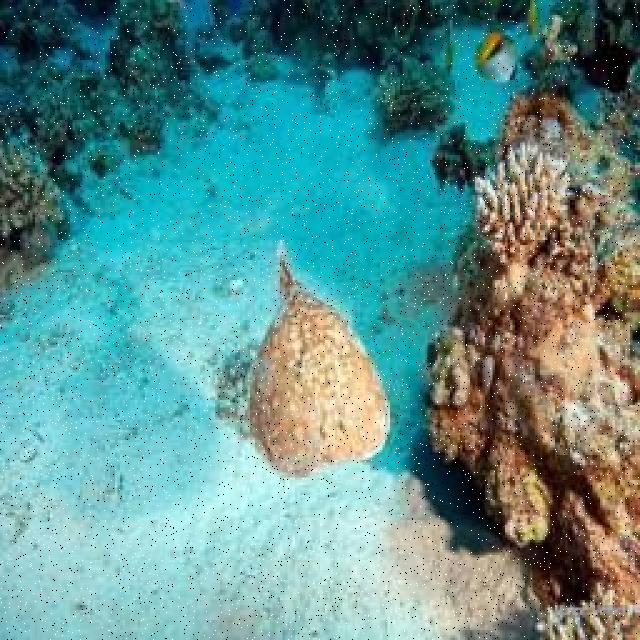fish: (243, 249, 390, 478), (473, 33, 518, 83)
reefs: (474, 140, 576, 268)
